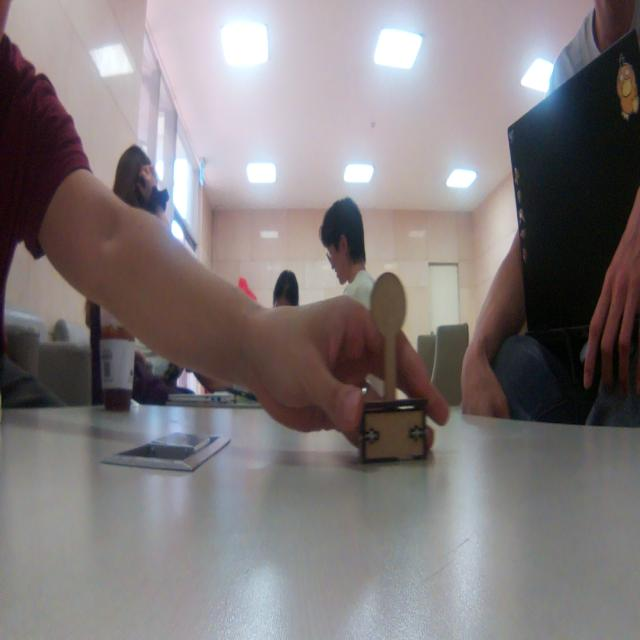target: (362, 270, 428, 464)
